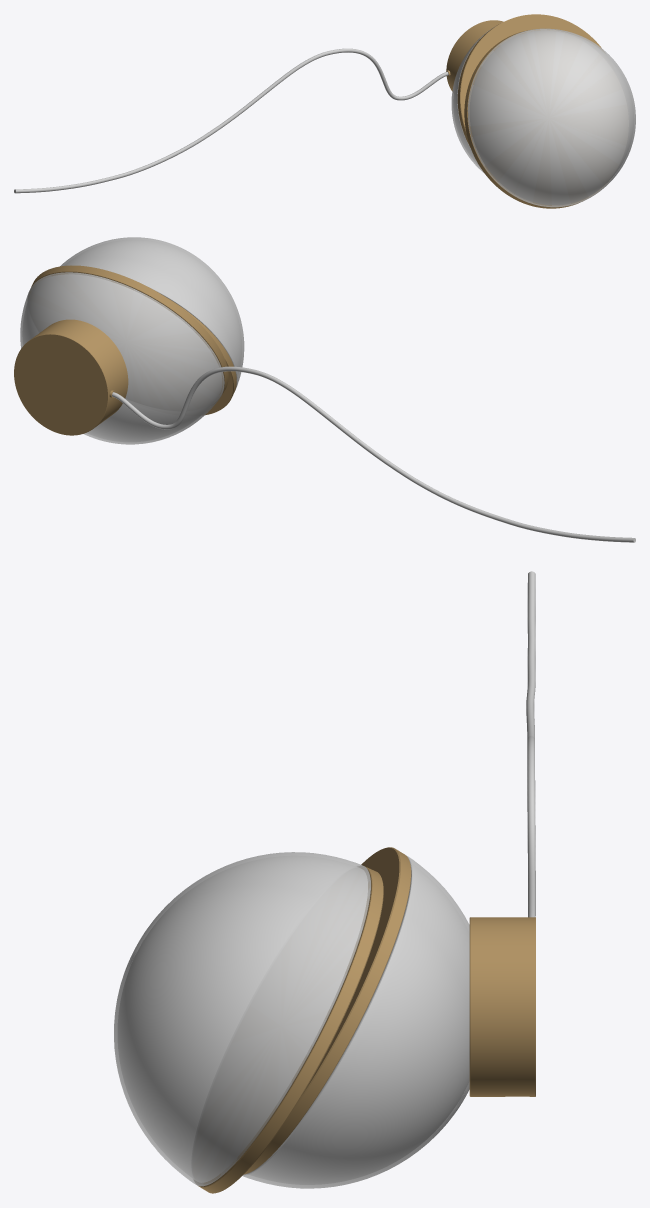
File: Lee_Broom_Mini_Crescent_Table_Lamp_mat(1).obj
3 views of the same model, one above another, from view 1: azimuth 30°, elevation 25°; view 2: azimuth 150°, elevation 25°; view 3: azimuth 270°, elevation 25° (orthographic). The views are drawn at different scales.
Visible parts, largest first — view 1: Lee_Broom_Mini_Crescent_Table_Lamp_mat1; view 2: Lee_Broom_Mini_Crescent_Table_Lamp_mat1; view 3: Lee_Broom_Mini_Crescent_Table_Lamp_mat1.
Part boxes in pixels (<box>): Lee_Broom_Mini_Crescent_Table_Lamp_mat1: <box>14,14,635,208</box>; Lee_Broom_Mini_Crescent_Table_Lamp_mat1: <box>14,237,635,542</box>; Lee_Broom_Mini_Crescent_Table_Lamp_mat1: <box>114,571,535,1193</box>.
Bounding box in the file's own units: 70.01 × 18.72 × 23.27.
